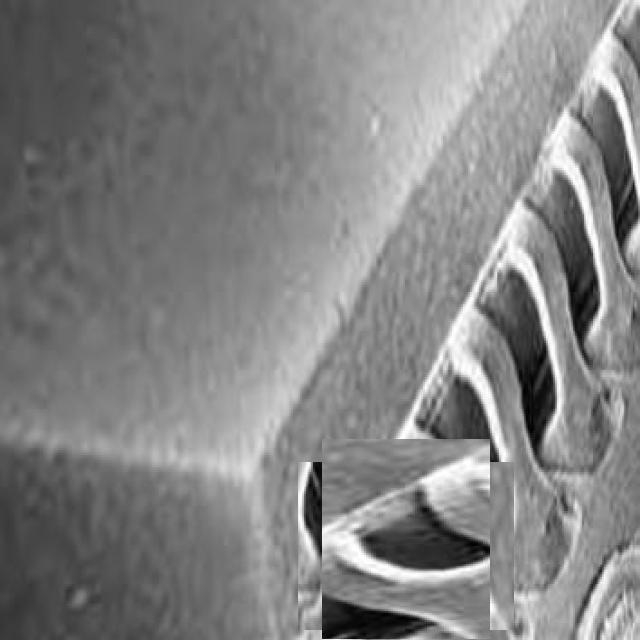Short_circuit: (310, 450, 501, 640)
